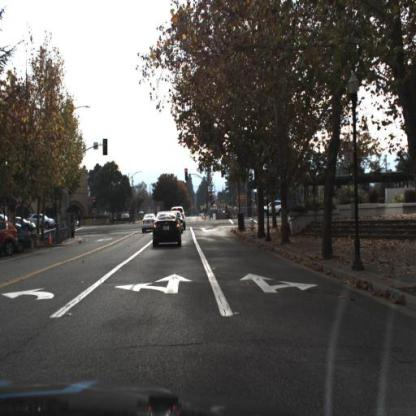car: (151, 209, 183, 250), (12, 219, 37, 255), (1, 219, 22, 257), (260, 197, 290, 219), (26, 212, 58, 232), (141, 213, 158, 234)
trafficLight-Red: (184, 167, 191, 183)
